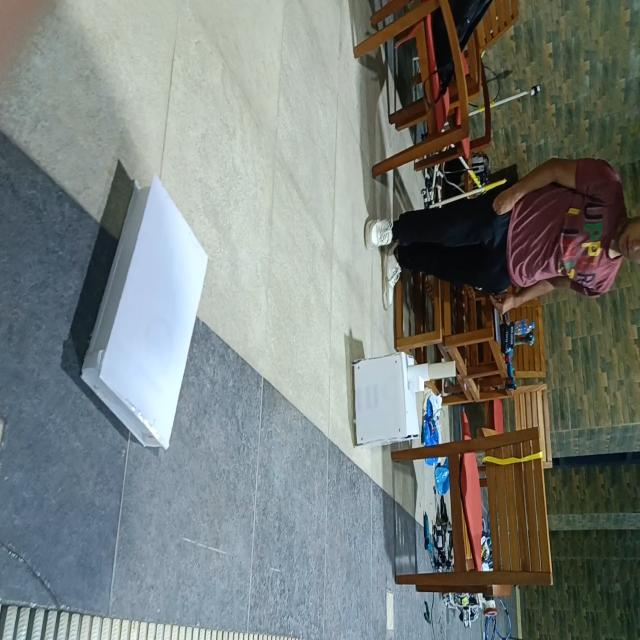Cube: (351, 350, 420, 448)
Cuboid: (80, 173, 208, 451)
